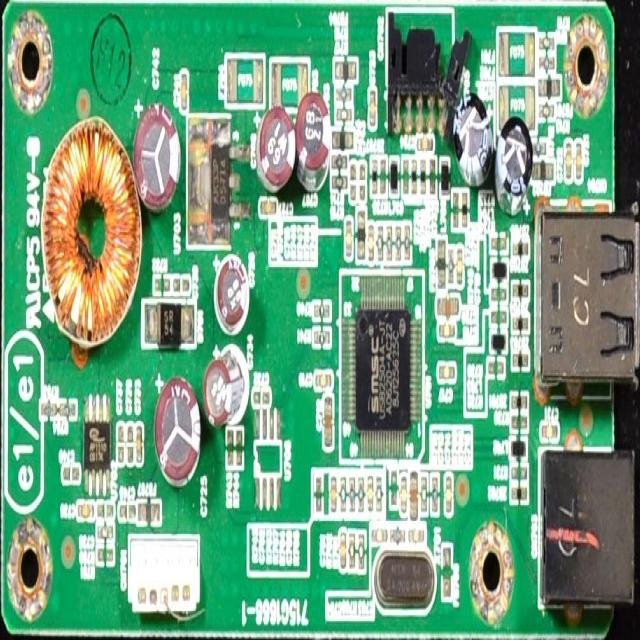Capacitor Jumper: (131, 91, 181, 208), (152, 366, 203, 480), (209, 252, 265, 336), (248, 103, 298, 196), (298, 88, 329, 213), (201, 340, 246, 426), (248, 377, 276, 413), (258, 194, 295, 218), (399, 135, 438, 156), (311, 360, 335, 393), (326, 470, 340, 518), (177, 64, 192, 107), (436, 356, 460, 382), (574, 124, 584, 184), (366, 80, 378, 127), (564, 128, 574, 184), (539, 418, 559, 443), (388, 466, 399, 511), (172, 273, 191, 299), (117, 498, 136, 524), (322, 399, 332, 448), (436, 297, 460, 317), (438, 321, 459, 343), (116, 419, 126, 463), (96, 516, 114, 540), (370, 522, 388, 546), (345, 212, 354, 259), (408, 526, 427, 548), (446, 466, 454, 518), (136, 419, 144, 467), (64, 462, 80, 486), (410, 473, 418, 519), (368, 221, 377, 261), (339, 525, 346, 574), (127, 419, 134, 466), (400, 470, 407, 517), (79, 499, 94, 519), (367, 470, 374, 512), (458, 244, 464, 285)
IC: (341, 280, 423, 458)
Resistor Jumper: (489, 279, 509, 329), (333, 83, 356, 121), (95, 536, 115, 566), (310, 325, 333, 351), (539, 32, 556, 67), (312, 470, 324, 518), (311, 298, 333, 324), (534, 93, 555, 119), (154, 262, 171, 294), (62, 390, 79, 420), (41, 390, 59, 418), (389, 521, 407, 548), (433, 468, 442, 520), (225, 415, 234, 465), (236, 418, 245, 468), (369, 155, 379, 198), (492, 232, 508, 258), (379, 157, 388, 201), (488, 356, 506, 378), (446, 244, 455, 285), (357, 473, 366, 514), (509, 411, 528, 429), (386, 221, 394, 263), (348, 527, 356, 569), (404, 222, 412, 263), (422, 469, 429, 515), (358, 531, 366, 571), (348, 469, 355, 512), (331, 177, 348, 194), (403, 158, 410, 197), (452, 183, 459, 221), (462, 184, 468, 227), (330, 157, 347, 172), (378, 224, 384, 264), (510, 469, 528, 482), (376, 472, 382, 510), (341, 476, 346, 511), (396, 226, 401, 259)
Transistor: (385, 7, 450, 134)
iC: (186, 113, 233, 253), (251, 412, 291, 512), (86, 386, 120, 494), (140, 298, 202, 356)
